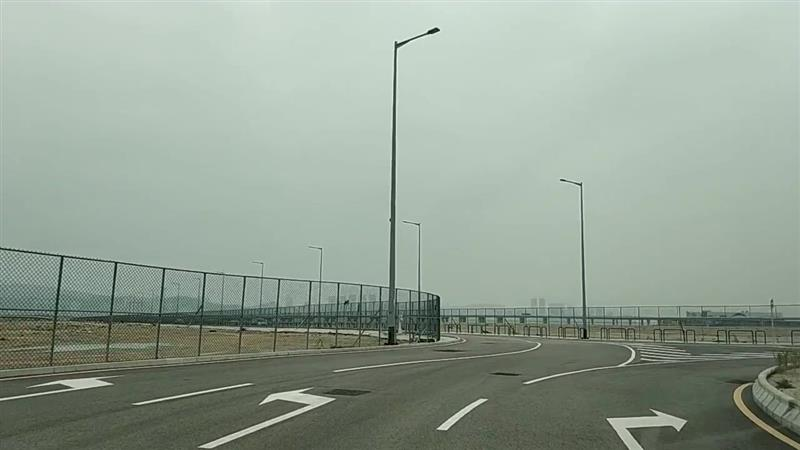roadTurnRight: (602, 406, 691, 450)
